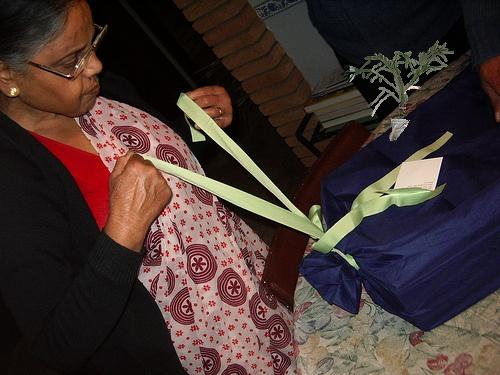tampered: (341, 41, 454, 141)
